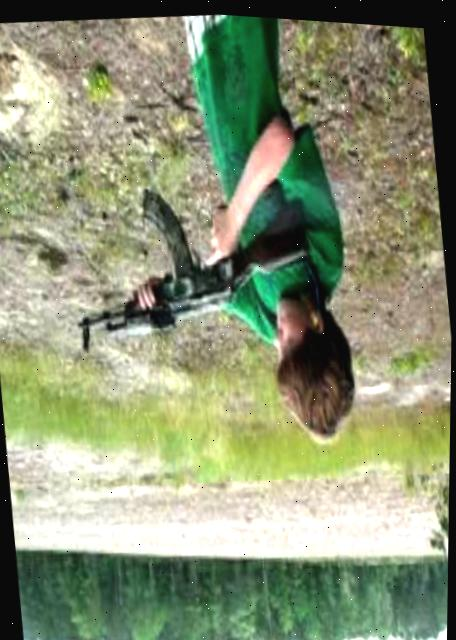rifle: (60, 170, 337, 372)
